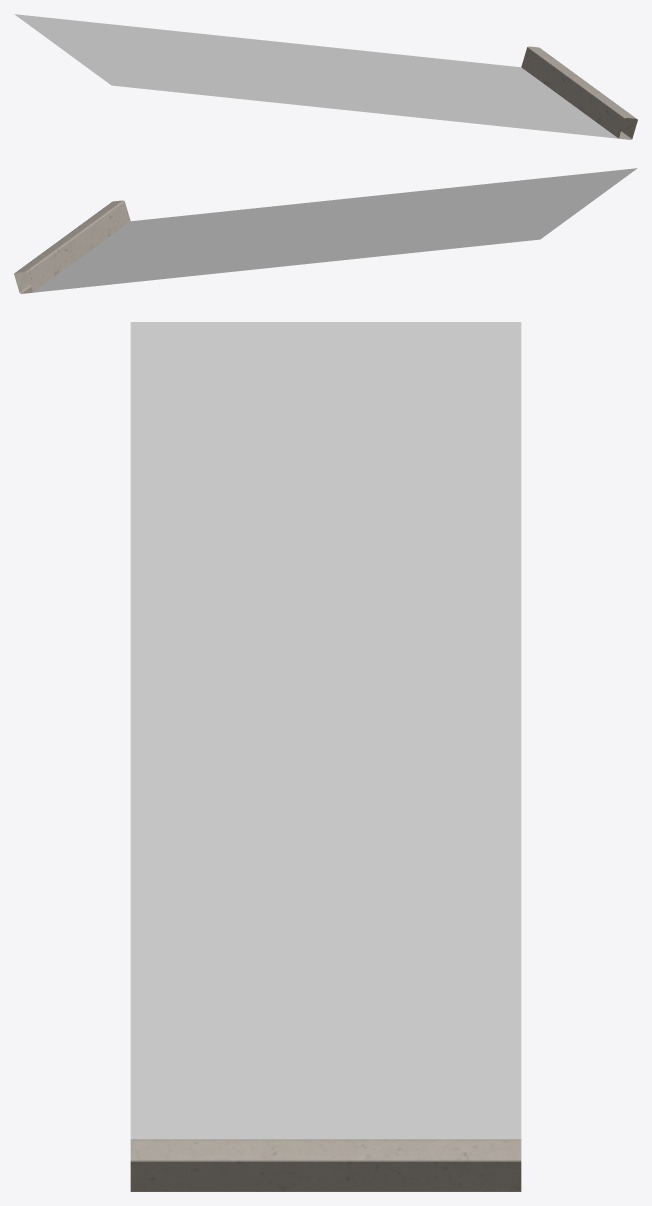
The model's file is GMP_roofslope_01.fbx.
The picture shows the model from 3 angles, top to bottom: view 1: azimuth 30°, elevation 25°; view 2: azimuth 150°, elevation 25°; view 3: azimuth 270°, elevation 25°; orthographic projection. The views are drawn at different scales.
Visible parts, largest first — view 1: slope; view 2: slope; view 3: slope.
Part boxes in pixels (x1,y1,x2,y2): slope: (14,14,637,139); slope: (14,168,637,293); slope: (130,322,521,1191).
Size of the model in its own units: 6.23 by 2.05 by 2.
